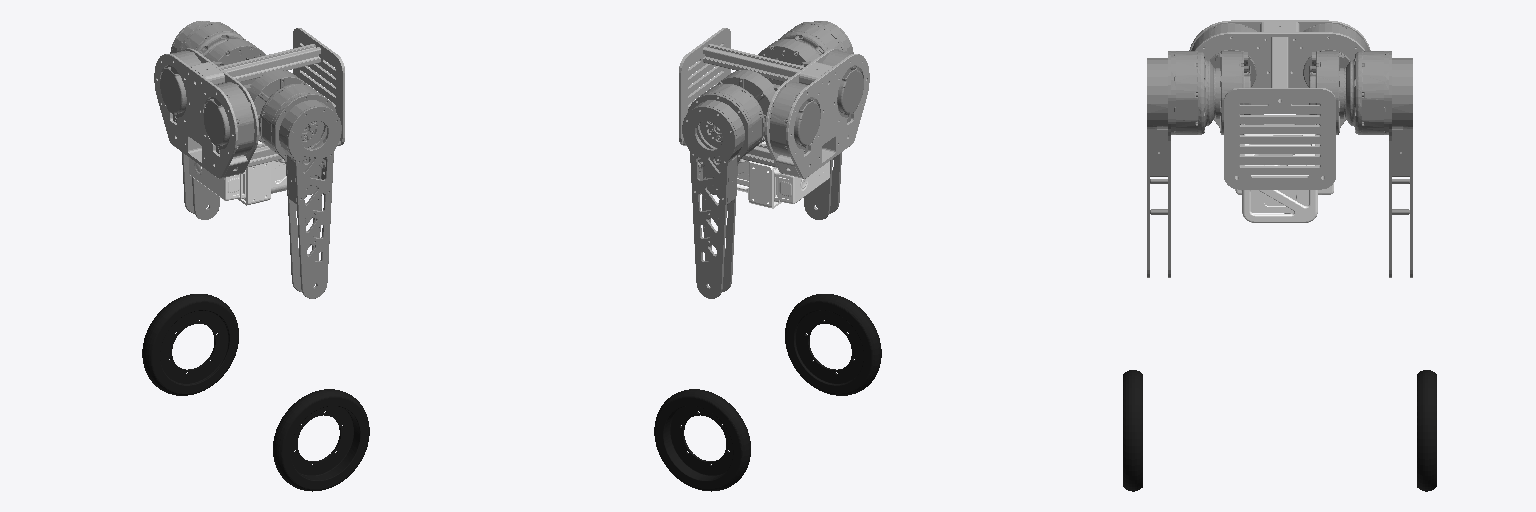
The robot description file, URDF, robot "crazydog_urdf":
<?xml version="1.0" encoding="utf-8"?>
<!-- This URDF was automatically created by SolidWorks to URDF Exporter! Originally created by [author] ([email redacted]) 
     Commit Version: 1.6.0-4-g7f85cfe  Build Version: 1.6.7995.38578
     For more information, please see http://wiki.ros.org/sw_urdf_exporter -->
<robot
  name="crazydog_urdf">
  <mujoco>
  <compiler
    meshdir="../meshes"
    balanceinertia="true"
    discardvisual="false" />
  </mujoco>
  <link
    name="base_link">
    <inertial>
      <origin
        xyz="-0.029918 -1.7786E-06 -0.025244"
        rpy="0 0 0" />
      <mass
        value="0.62" />
      <inertia
        ixx="0.0014316"
        ixy="2.0189E-08"
        ixz="-7.4946E-05"
        iyy="0.0022988"
        iyz="-3.8781E-09"
        izz="0.0023924" />
    </inertial>
    <visual>
      <origin
        xyz="0 0 0"
        rpy="0 0 0" />
      <geometry>
        <mesh
          filename="package://crazydog_urdf/meshes/base_link.STL" />
      </geometry>
      <material
        name="">
        <color
          rgba="0.74902 0.74902 0.74902 1" />
      </material>
    </visual>
    <collision>
      <origin
        xyz="0 0 0"
        rpy="0 0 0" />
      <geometry>
        <mesh
          filename="package://crazydog_urdf/meshes/base_link.STL" />
      </geometry>
    </collision>
  </link>
  <link
    name="R_hip_fix">
    <inertial>
      <origin
        xyz="-0.071968 -0.056165 -9.0424E-05"
        rpy="0 0 0" />
      <mass
        value="0.536" />
      <inertia
        ixx="0.00021465"
        ixy="2.2372E-07"
        ixz="-2.4475E-07"
        iyy="0.00012408"
        iyz="-3.0046E-07"
        izz="0.00012018" />
    </inertial>
    <visual>
      <origin
        xyz="0 0 0"
        rpy="0 0 0" />
      <geometry>
        <mesh
          filename="package://crazydog_urdf/meshes/R_hip_fix.STL" />
      </geometry>
      <material
        name="">
        <color
          rgba="0.62745 0.62745 0.62745 1" />
      </material>
    </visual>
    <collision>
      <origin
        xyz="0 0 0"
        rpy="0 0 0" />
      <geometry>
        <mesh
          filename="package://crazydog_urdf/meshes/R_hip_fix.STL" />
      </geometry>
    </collision>
  </link>
  <joint
    name="R_hip_fix"
    type="fixed">
    <origin
      xyz="0 0 0"
      rpy="0 0 0" />
    <parent
      link="base_link" />
    <child
      link="R_hip_fix" />
    <axis
      xyz="0 0 0" />
  </joint>
  <link
    name="R_hip">
    <inertial>
      <origin
        xyz="0.050012 -0.00066363 -8.4178E-05"
        rpy="0 0 0" />
      <mass
        value="0.573" />
      <inertia
        ixx="0.00013072"
        ixy="3.3092E-06"
        ixz="3.5562E-07"
        iyy="0.00024737"
        iyz="2.3793E-07"
        izz="0.00015128" />
    </inertial>
    <visual>
      <origin
        xyz="0 0 0"
        rpy="0 0 0" />
      <geometry>
        <mesh
          filename="package://crazydog_urdf/meshes/R_hip.STL" />
      </geometry>
      <material
        name="">
        <color
          rgba="0.62745 0.62745 0.62745 1" />
      </material>
    </visual>
    <collision>
      <origin
        xyz="0 0 0"
        rpy="0 0 0" />
      <geometry>
        <mesh
          filename="package://crazydog_urdf/meshes/R_hip.STL" />
      </geometry>
    </collision>
  </link>
  <joint
    name="R_base2hip"
    type="fixed">
    <origin
      xyz="-0.0532503843026156 -0.0562499999999237 0"
      rpy="0 0 0" />
    <parent
      link="R_hip_fix" />
    <child
      link="R_hip" />
    <axis
      xyz="1 0 0" />
  </joint>
  <link
    name="R_thigh">
    <inertial>
      <origin
        xyz="-6.2352E-05 -0.039508 -0.021371"
        rpy="0 0 0" />
      <mass
        value="0.9105" />
      <inertia
        ixx="0.0014519"
        ixy="3.2371E-07"
        ixz="1.5994E-08"
        iyy="0.0014985"
        iyz="-0.00020329"
        izz="0.00038047" />
    </inertial>
    <visual>
      <origin
        xyz="0 0 0"
        rpy="0 0 0" />
      <geometry>
        <mesh
          filename="package://crazydog_urdf/meshes/R_thigh.STL" />
      </geometry>
      <material
        name="">
        <color
          rgba="0.62745 0.62745 0.62745 1" />
      </material>
    </visual>
    <collision>
      <origin
        xyz="0 0 0"
        rpy="0 0 0" />
      <geometry>
        <mesh
          filename="package://crazydog_urdf/meshes/R_thigh.STL" />
      </geometry>
    </collision>
  </link>
  <joint
    name="R_hip2thigh"
    type="revolute">
    <origin
      xyz="0.0532503843026156 -0.0199500639394125 0"
      rpy="0 0 0" />
    <parent
      link="R_hip" />
    <child
      link="R_thigh" />
    <axis
      xyz="0 1 0" />
    <limit
      lower="0.0"
      upper="1.57"
      effort="23.7"
      velocity="30.0" />
  </joint>
  <link
    name="R_calf">
    <inertial>
      <origin
        xyz="1.5378E-05 -0.0082389 -0.16157"
        rpy="0 0 0" />
      <mass
        value="0.555" />
      <inertia
        ixx="0.001409"
        ixy="-6.9198E-08"
        ixz="-1.1379E-06"
        iyy="0.0014225"
        iyz="-9.5527E-05"
        izz="8.2502E-05" />
    </inertial>
    <visual>
      <origin
        xyz="0 0 0"
        rpy="0 0 0" />
      <geometry>
        <mesh
          filename="package://crazydog_urdf/meshes/R_calf.STL" />
      </geometry>
      <material
        name="">
        <color
          rgba="1 1 1 1" />
      </material>
    </visual>
    <collision>
      <origin
        xyz="0 0 0"
        rpy="0 0 0" />
      <geometry>
        <mesh
          filename="package://crazydog_urdf/meshes/R_calf.STL" />
      </geometry>
    </collision>
  </link>
  <joint
    name="R_thigh2calf"
    type="revolute">
    <origin
      xyz="0 -0.0637999997592934 -0.21499974091937"
      rpy="0 0 0" />
    <parent
      link="R_thigh" />
    <child
      link="R_calf" />
    <axis
      xyz="0 1 0" />
    <limit
      lower="-2.61"
      upper="0.0"
      effort="23.7"
      velocity="30.0" />
  </joint>
  <link
    name="R_wheel">
    <inertial>
      <origin
        xyz="-1.6115E-14 -0.0042663 -5.2525E-13"
        rpy="0 0 0" />
      <mass
        value="0.2805" />
      <inertia
        ixx="0.00029524"
        ixy="1.812E-19"
        ixz="2.5527E-19"
        iyy="0.00057738"
        iyz="-9.2577E-19"
        izz="0.00029524" />
    </inertial>
    <visual>
      <origin
        xyz="0 0 0"
        rpy="0 0 0" />
      <geometry>
        <mesh
          filename="package://crazydog_urdf/meshes/R_wheel.STL" />
      </geometry>
      <material
        name="">
        <color
          rgba="0.15294 0.15294 0.15294 1" />
      </material>
    </visual>
    <collision>
      <origin
        xyz="0 0 0"
        rpy="0 0 0" />
      <geometry>
        <mesh
          filename="package://crazydog_urdf/meshes/R_wheel.STL" />
      </geometry>
    </collision>
  </link>
  <joint
    name="R_calf2wheel"
    type="continuous">
    <origin
      xyz="0 -0.0245499999999997 -0.214999987347139"
      rpy="0 0 0" />
    <parent
      link="R_calf" />
    <child
      link="R_wheel" />
    <axis
      xyz="0 1 0" />
  </joint>
  <link
    name="L_hip_fix">
    <inertial>
      <origin
        xyz="-0.071968 0.056335 -9.0424E-05"
        rpy="0 0 0" />
      <mass
        value="0.536" />
      <inertia
        ixx="0.00021465"
        ixy="2.2372E-07"
        ixz="-2.4475E-07"
        iyy="0.00012408"
        iyz="-3.0046E-07"
        izz="0.00012018" />
    </inertial>
    <visual>
      <origin
        xyz="0 0 0"
        rpy="0 0 0" />
      <geometry>
        <mesh
          filename="package://crazydog_urdf/meshes/L_hip_fix.STL" />
      </geometry>
      <material
        name="">
        <color
          rgba="0.62745 0.62745 0.62745 1" />
      </material>
    </visual>
    <collision>
      <origin
        xyz="0 0 0"
        rpy="0 0 0" />
      <geometry>
        <mesh
          filename="package://crazydog_urdf/meshes/L_hip_fix.STL" />
      </geometry>
    </collision>
  </link>
  <joint
    name="L_hip_fix"
    type="fixed">
    <origin
      xyz="0 0 0"
      rpy="0 0 0" />
    <parent
      link="base_link" />
    <child
      link="L_hip_fix" />
    <axis
      xyz="0 0 0" />
  </joint>
  <link
    name="L_hip">
    <inertial>
      <origin
        xyz="0.050012 0.00066363 -8.4173E-05"
        rpy="0 0 0" />
      <mass
        value="0.573" />
      <inertia
        ixx="0.00013072"
        ixy="-3.3093E-06"
        ixz="3.5551E-07"
        iyy="0.00024737"
        iyz="-2.3794E-07"
        izz="0.00015128" />
    </inertial>
    <visual>
      <origin
        xyz="0 0 0"
        rpy="0 0 0" />
      <geometry>
        <mesh
          filename="package://crazydog_urdf/meshes/L_hip.STL" />
      </geometry>
      <material
        name="">
        <color
          rgba="0.62745 0.62745 0.62745 1" />
      </material>
    </visual>
    <collision>
      <origin
        xyz="0 0 0"
        rpy="0 0 0" />
      <geometry>
        <mesh
          filename="package://crazydog_urdf/meshes/L_hip.STL" />
      </geometry>
    </collision>
  </link>
  <joint
    name="L_base2hip"
    type="fixed">
    <origin
      xyz="-0.0532503843026153 0.0562500000000755 0"
      rpy="0 0 0" />
    <parent
      link="L_hip_fix" />
    <child
      link="L_hip" />
    <axis
      xyz="1 0 0" />
  </joint>
  <link
    name="L_thigh">
    <inertial>
      <origin
        xyz="-6.238E-05 0.039508 -0.021371"
        rpy="0 0 0" />
      <mass
        value="0.9105" />
      <inertia
        ixx="0.0014519"
        ixy="-3.2377E-07"
        ixz="1.5912E-08"
        iyy="0.0014985"
        iyz="0.00020329"
        izz="0.00038047" />
    </inertial>
    <visual>
      <origin
        xyz="0 0 0"
        rpy="0 0 0" />
      <geometry>
        <mesh
          filename="package://crazydog_urdf/meshes/L_thigh.STL" />
      </geometry>
      <material
        name="">
        <color
          rgba="0.62745 0.62745 0.62745 1" />
      </material>
    </visual>
    <collision>
      <origin
        xyz="0 0 0"
        rpy="0 0 0" />
      <geometry>
        <mesh
          filename="package://crazydog_urdf/meshes/L_thigh.STL" />
      </geometry>
    </collision>
  </link>
  <joint
    name="L_hip2thigh"
    type="revolute">
    <origin
      xyz="0.0532503843026148 0.0199500639396405 0"
      rpy="0 0 0" />
    <parent
      link="L_hip" />
    <child
      link="L_thigh" />
    <axis
      xyz="0 1 0" />
    <limit
      lower="0.0"
      upper="1.57"
      effort="23.7"
      velocity="30.0" />
  </joint>
  <link
    name="L_calf">
    <inertial>
      <origin
        xyz="1.6296E-05 0.0082388 -0.16158"
        rpy="0 0 0" />
      <mass
        value="0.555" />
      <inertia
        ixx="0.0014089"
        ixy="7.03E-08"
        ixz="-1.1423E-06"
        iyy="0.0014225"
        iyz="9.5525E-05"
        izz="8.2514E-05" />
    </inertial>
    <visual>
      <origin
        xyz="0 0 0"
        rpy="0 0 0" />
      <geometry>
        <mesh
          filename="package://crazydog_urdf/meshes/L_calf.STL" />
      </geometry>
      <material
        name="">
        <color
          rgba="1 1 1 1" />
      </material>
    </visual>
    <collision>
      <origin
        xyz="0 0 0"
        rpy="0 0 0" />
      <geometry>
        <mesh
          filename="package://crazydog_urdf/meshes/L_calf.STL" />
      </geometry>
    </collision>
  </link>
  <joint
    name="L_thigh2calf"
    type="revolute">
    <origin
      xyz="0 0.0637999997593029 -0.214999740919375"
      rpy="0 0 0" />
    <parent
      link="L_thigh" />
    <child
      link="L_calf" />
    <axis
      xyz="0 1 0" />
    <limit
      lower="-2.61"
      upper="0.0"
      effort="23.7"
      velocity="30.0" />
  </joint>
  <link
    name="L_wheel">
    <inertial>
      <origin
        xyz="-1.8104E-14 0.0042663 -4.3743E-13"
        rpy="0 0 0" />
      <mass
        value="0.2805" />
      <inertia
        ixx="0.00029524"
        ixy="-1.6997E-18"
        ixz="-2.6717E-19"
        iyy="0.00057738"
        iyz="5.5957E-18"
        izz="0.00029524" />
    </inertial>
    <visual>
      <origin
        xyz="0 0 0"
        rpy="0 0 0" />
      <geometry>
        <mesh
          filename="package://crazydog_urdf/meshes/L_wheel.STL" />
      </geometry>
      <material
        name="">
        <color
          rgba="0.15294 0.15294 0.15294 1" />
      </material>
    </visual>
    <collision>
      <origin
        xyz="0 0 0"
        rpy="0 0 0" />
      <geometry>
        <mesh
          filename="package://crazydog_urdf/meshes/L_wheel.STL" />
      </geometry>
    </collision>
  </link>
  <joint
    name="L_calf2wheel"
    type="continuous">
    <origin
      xyz="0 0.0245500000000035 -0.214999987347138"
      rpy="0 0 0" />
    <parent
      link="L_calf" />
    <child
      link="L_wheel" />
    <axis
      xyz="0 1 0" />
  </joint>
  <link
    name="battery">
    <inertial>
      <origin
        xyz="0 0 0"
        rpy="0 0 0" />
      <mass
        value="0.672" />
      <inertia
        ixx="0"
        ixy="0"
        ixz="0"
        iyy="0"
        iyz="0"
        izz="0" />
    </inertial>
    <visual>
      <origin
        xyz="0 0 0"
        rpy="0 0 0" />
      <geometry>
        <mesh
          filename="package://crazydog_urdf/meshes/battery.STL" />
      </geometry>
      <material
        name="">
        <color
          rgba="1 1 1 1" />
      </material>
    </visual>
    <collision>
      <origin
        xyz="0 0 0"
        rpy="0 0 0" />
      <geometry>
        <mesh
          filename="package://crazydog_urdf/meshes/battery.STL" />
      </geometry>
    </collision>
  </link>
  <joint
    name="battery_fix"
    type="fixed">
    <origin
      xyz="0 0 0"
      rpy="0 0 0" />
    <parent
      link="base_link" />
    <child
      link="battery" />
    <axis
      xyz="0 0 0" />
  </joint>
</robot>

--- Render facts (derived) ---
3 views of the same robot in one strip: view 1: azimuth 30°, elevation 25°; view 2: azimuth 150°, elevation 25°; view 3: azimuth 270°, elevation 25° (orthographic).
Model crazydog_urdf with 12 links and 11 joints (4 revolute, 2 continuous, 5 fixed), rooted at base_link, posed every joint at zero.
Visible links, largest first — view 1: base_link, R_thigh, R_wheel, L_wheel, L_thigh, battery, R_hip_fix, L_hip_fix, R_hip, L_hip; view 2: base_link, L_thigh, L_wheel, R_wheel, R_thigh, battery, L_hip_fix, R_hip_fix, L_hip, R_hip; view 3: base_link, R_thigh, L_thigh, battery, R_wheel, L_wheel, R_hip, L_hip, R_hip_fix, L_hip_fix.
Boxes of the visible links, x1=… form: base_link: x1=154, y1=28, x2=344, y2=178; R_thigh: x1=259, y1=84, x2=341, y2=298; R_wheel: x1=273, y1=389, x2=369, y2=491; L_wheel: x1=142, y1=294, x2=238, y2=395; L_thigh: x1=170, y1=21, x2=245, y2=219; battery: x1=189, y1=141, x2=286, y2=205; R_hip_fix: x1=203, y1=82, x2=254, y2=156; L_hip_fix: x1=160, y1=50, x2=201, y2=122; R_hip: x1=244, y1=70, x2=306, y2=143; L_hip: x1=206, y1=39, x2=265, y2=85; base_link: x1=679, y1=28, x2=869, y2=178; L_thigh: x1=682, y1=84, x2=764, y2=298; L_wheel: x1=654, y1=389, x2=750, y2=491; R_wheel: x1=785, y1=294, x2=881, y2=395; R_thigh: x1=778, y1=21, x2=853, y2=219; battery: x1=737, y1=141, x2=829, y2=208; L_hip_fix: x1=769, y1=82, x2=820, y2=156; R_hip_fix: x1=822, y1=50, x2=863, y2=122; L_hip: x1=717, y1=70, x2=779, y2=143; R_hip: x1=758, y1=39, x2=817, y2=85; base_link: x1=1189, y1=20, x2=1370, y2=189; R_thigh: x1=1147, y1=51, x2=1213, y2=277; L_thigh: x1=1346, y1=51, x2=1412, y2=277; battery: x1=1235, y1=134, x2=1333, y2=222; R_wheel: x1=1123, y1=370, x2=1142, y2=491; L_wheel: x1=1417, y1=370, x2=1436, y2=491; R_hip: x1=1214, y1=51, x2=1250, y2=134; L_hip: x1=1309, y1=51, x2=1345, y2=134; R_hip_fix: x1=1191, y1=23, x2=1268, y2=86; L_hip_fix: x1=1291, y1=23, x2=1368, y2=86.
Bounding box of the posed robot: 0.192 × 0.3621 × 0.5503 m (x, y, z).
10 mesh visuals loaded from 12 distinct referenced files (10 binary STL); not drawn: 2 (reference not matched to a file when rendering).